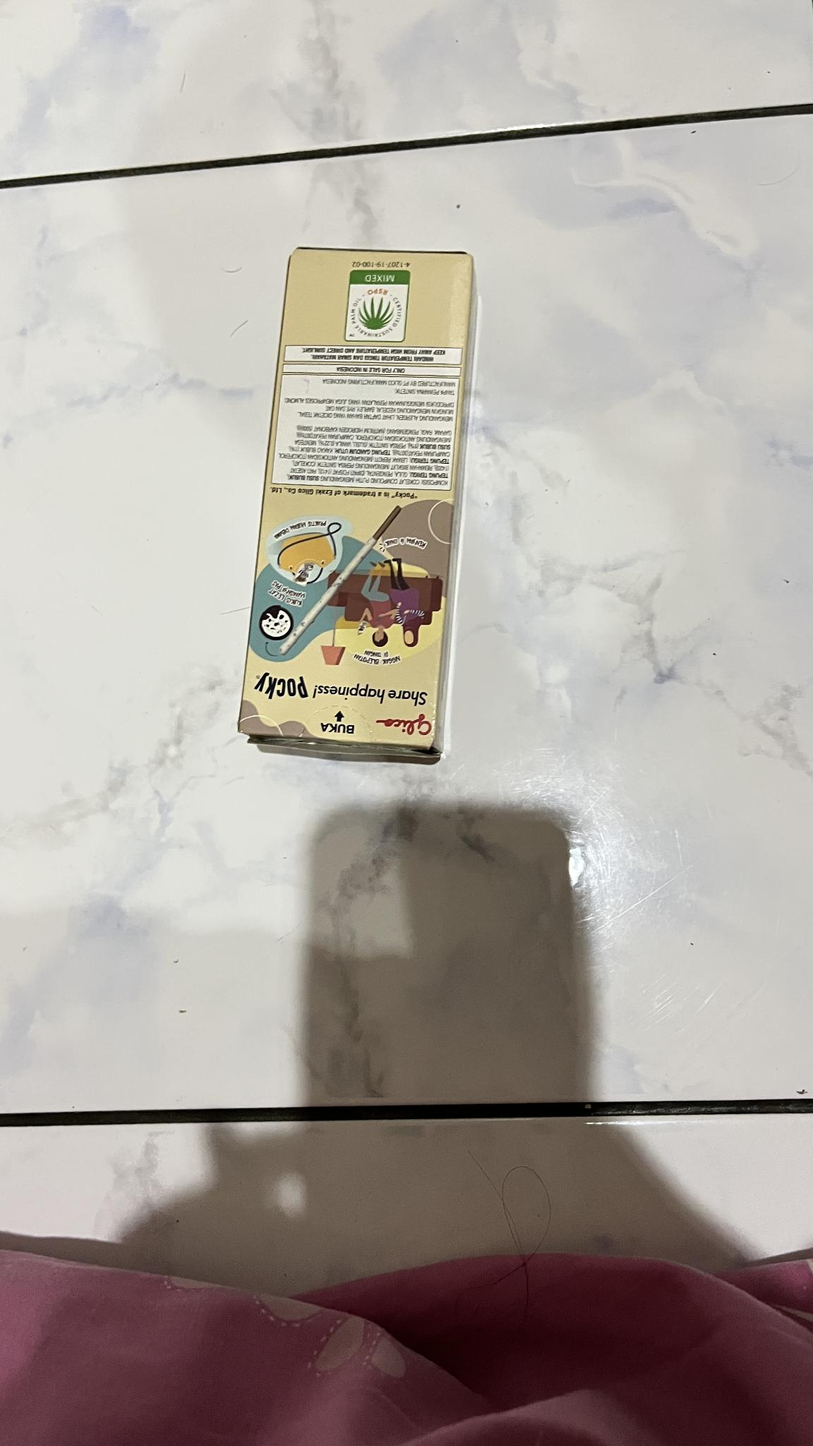Kertas: (244, 251, 473, 767)
